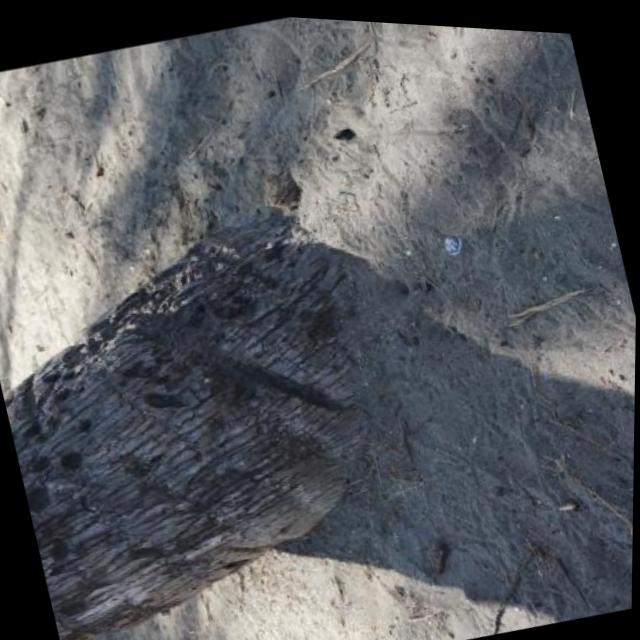metal: (437, 230, 466, 258)
